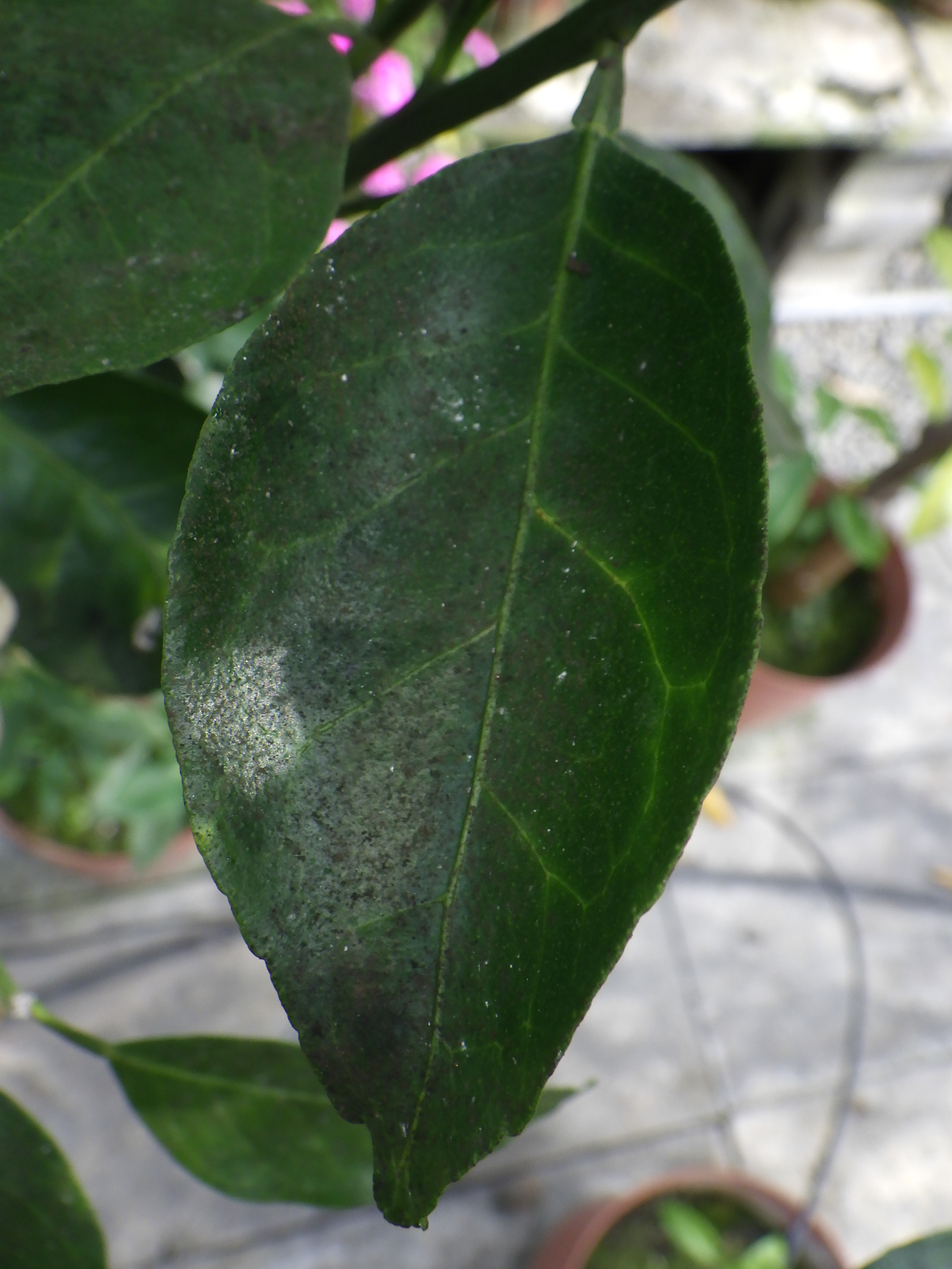Sooty_Mold: (165, 105, 765, 1224)
